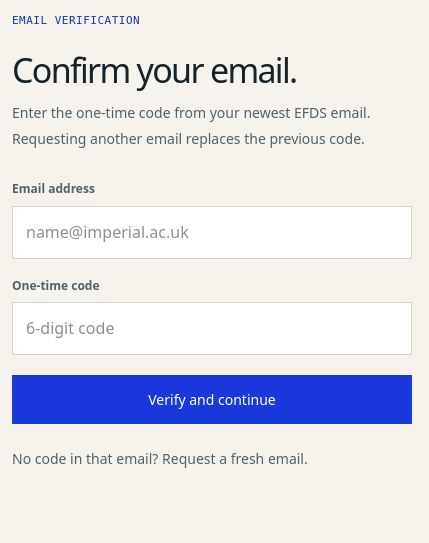
it: email code fallback › verifies the setup code with the right Supabase flow
The image size is (429, 543).
In the field labelled "Email address": {"x": 212, "y": 232} [12,206,412,259], type "Member@Imperial.ac.uk"
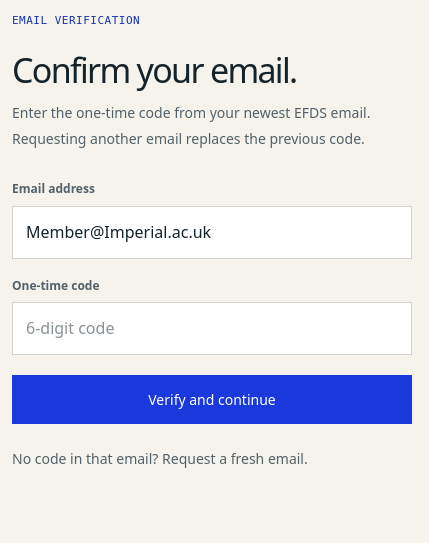
In the field labelled "One-time code": {"x": 212, "y": 329} [12,302,412,355], type "123456"
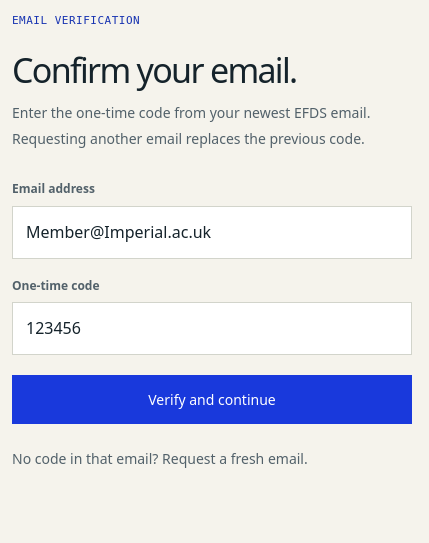
Click the button "Verify and continue": {"x": 212, "y": 400} [12,375,412,424]
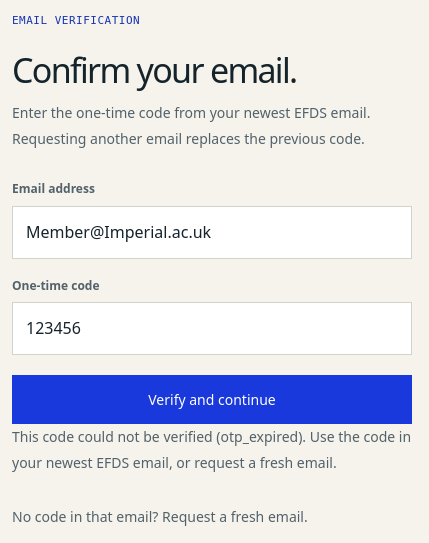
Expected: the message shows "otp_expired", [12,427,411,472]
